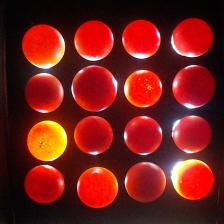fertile: (71, 65, 118, 112), (172, 64, 215, 109), (124, 161, 167, 203), (24, 164, 65, 204), (74, 115, 114, 155), (25, 72, 64, 112), (124, 115, 162, 156), (173, 116, 212, 154)
infertile: (21, 24, 66, 69), (76, 166, 120, 208), (171, 159, 214, 201), (26, 120, 68, 162), (171, 18, 213, 58), (74, 20, 114, 61), (122, 20, 160, 59), (124, 69, 162, 107)
